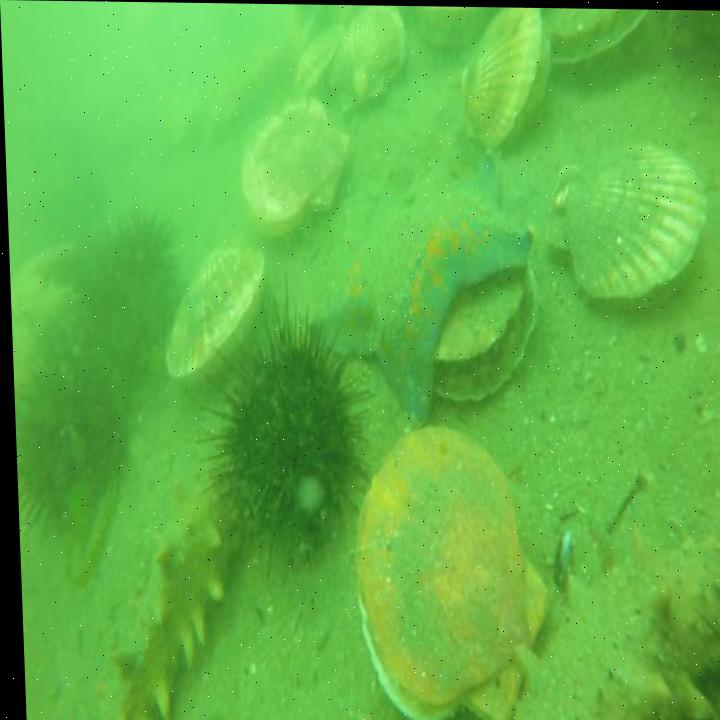echinus: (197, 308, 372, 568), (9, 304, 131, 551), (74, 204, 184, 375)
holothurian: (498, 468, 720, 720), (89, 467, 241, 720)
scallop: (338, 418, 547, 720), (540, 136, 710, 308), (427, 250, 540, 413), (158, 237, 268, 392), (233, 95, 355, 230), (454, 5, 555, 152), (324, 4, 410, 111), (550, 6, 657, 74), (286, 20, 343, 95)
starfish: (297, 133, 538, 420)
